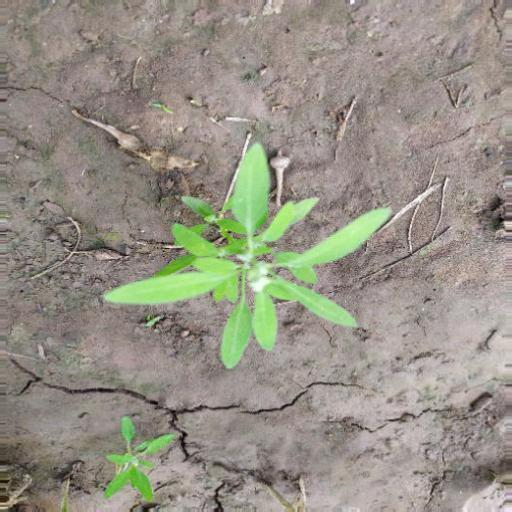weed: (103, 143, 409, 376), (91, 407, 182, 509)
